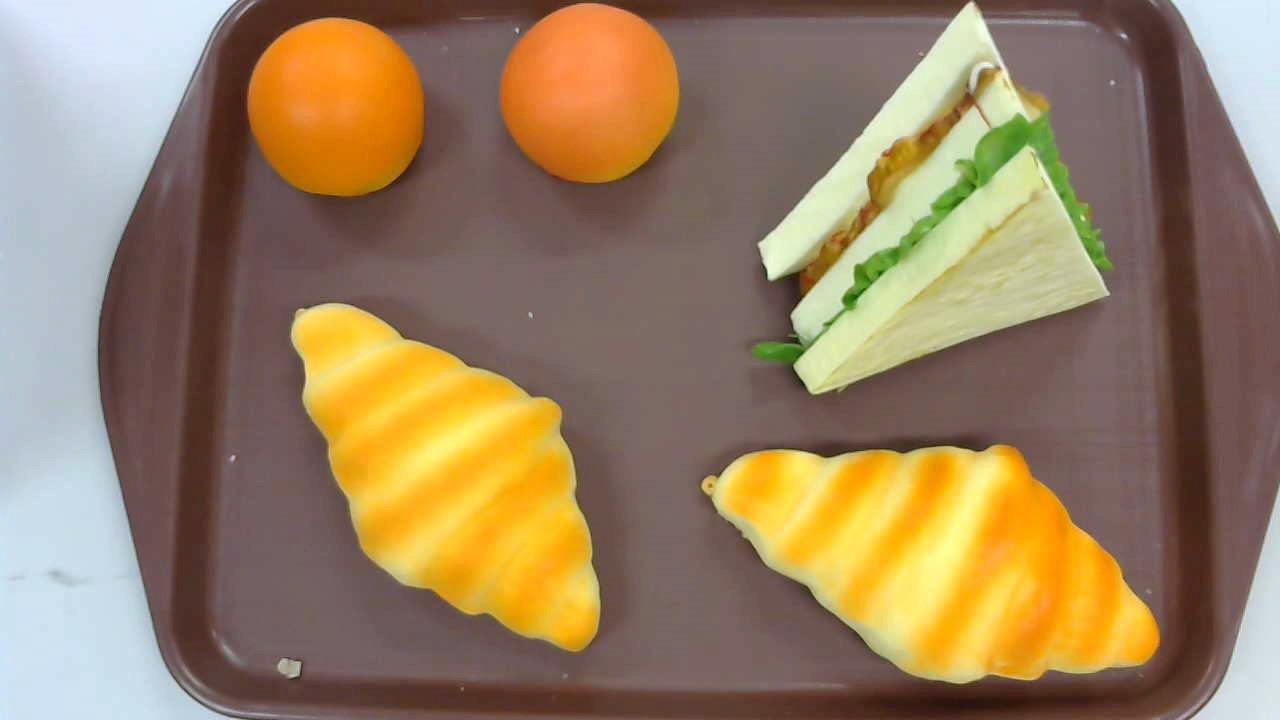bun: (498, 4, 678, 184), (247, 16, 425, 195)
croissant: (700, 444, 1159, 684), (291, 302, 603, 653)
sandwich: (750, 1, 1114, 397)
